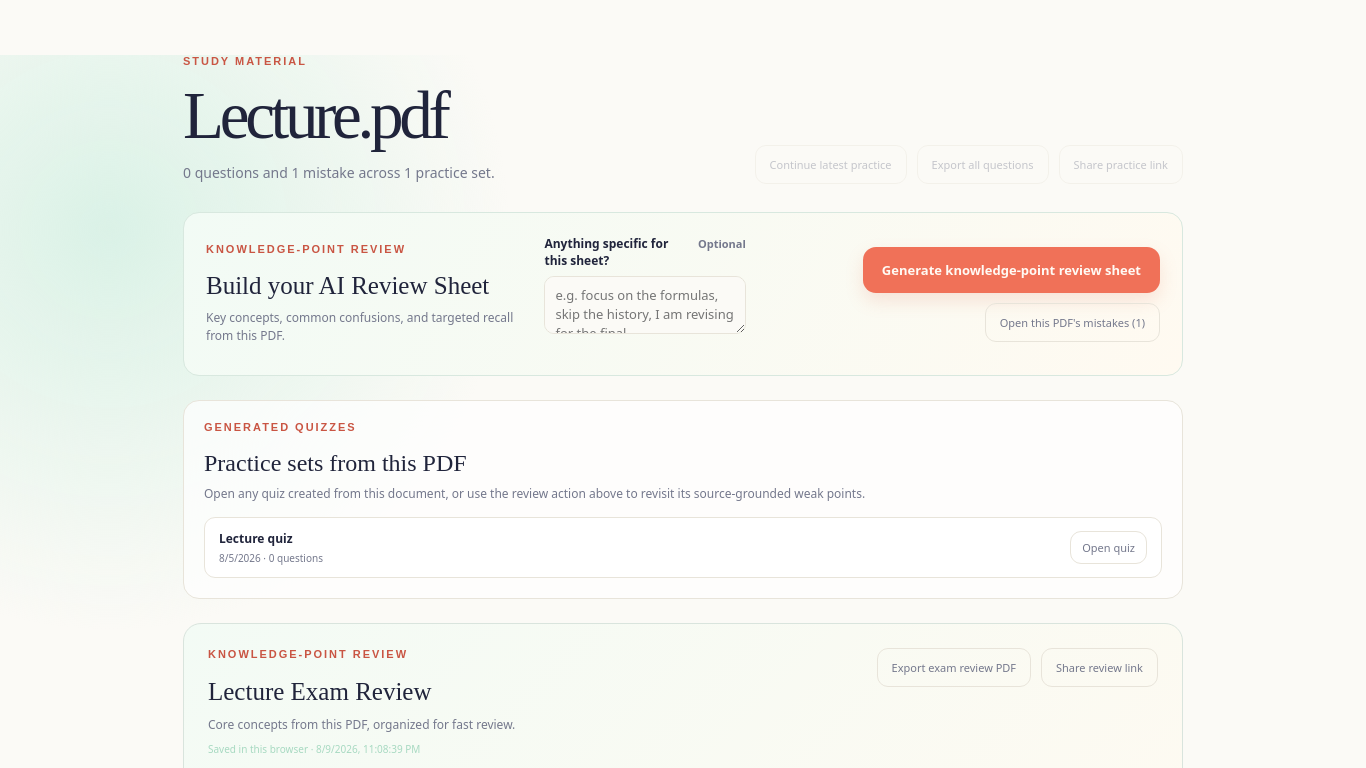
Test: MaterialDetailView › sends this PDF's mistakes and renders the linked learning focus
The width and height of the screenshot is (1366, 768).
Click the button "Generate knowledge-point review sheet" at point(1011, 270), box [863,247,1160,293]
(page scrolled)
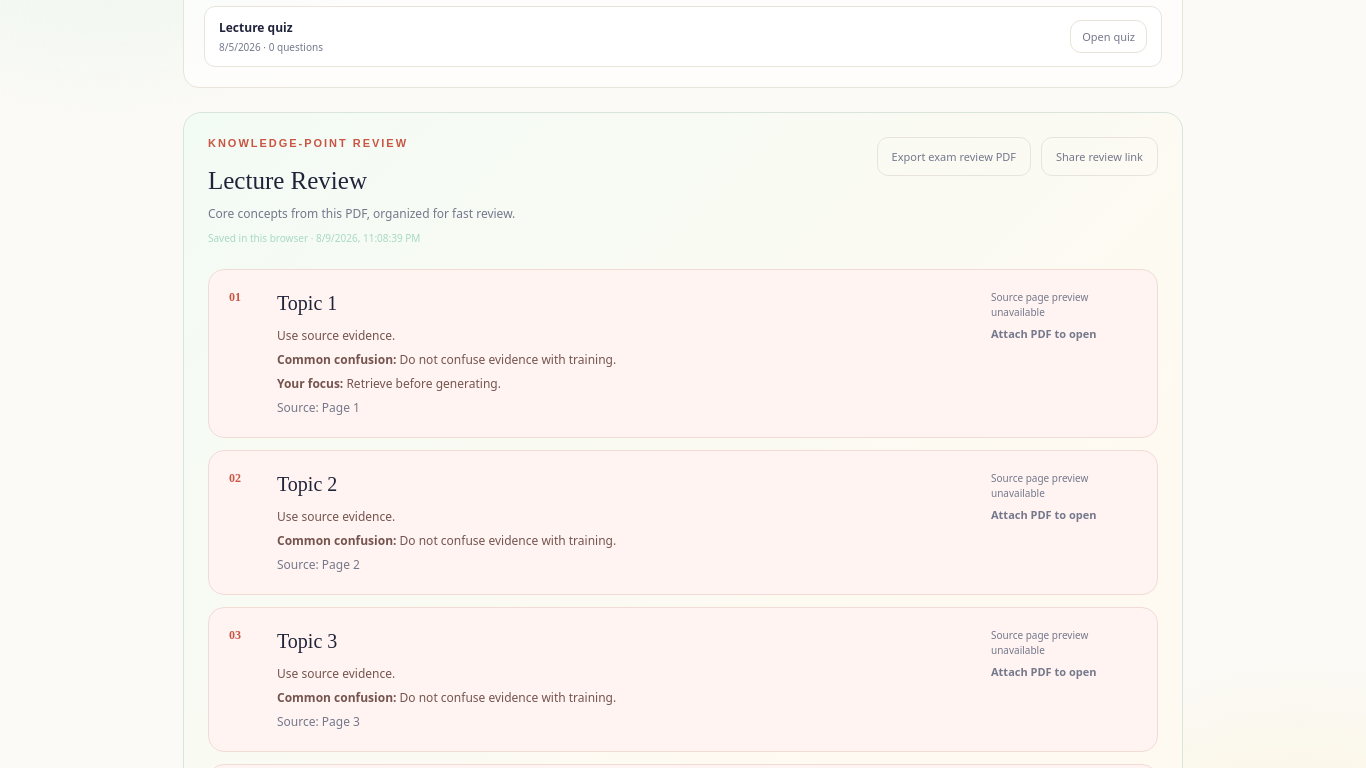
Expected: the heading "Lecture Review" is shown, [208,167,367,194]
Expected: the text "Retrieve before generating." is shown, [346,375,501,392]
